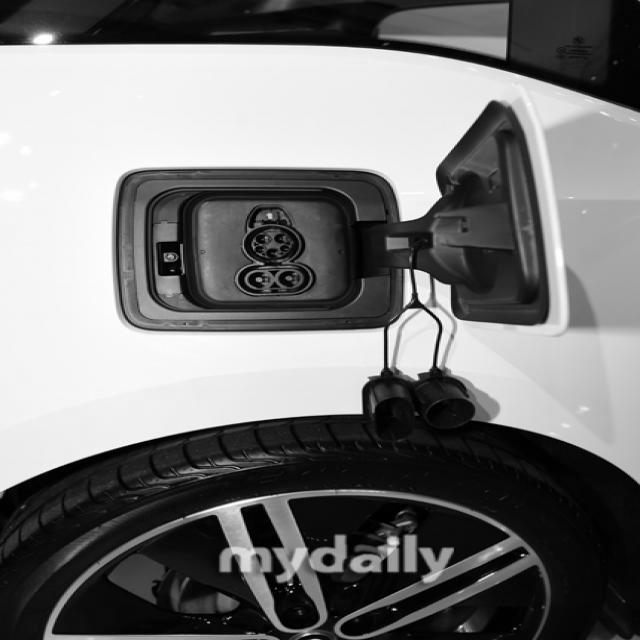CCS1: (213, 182, 332, 329)
